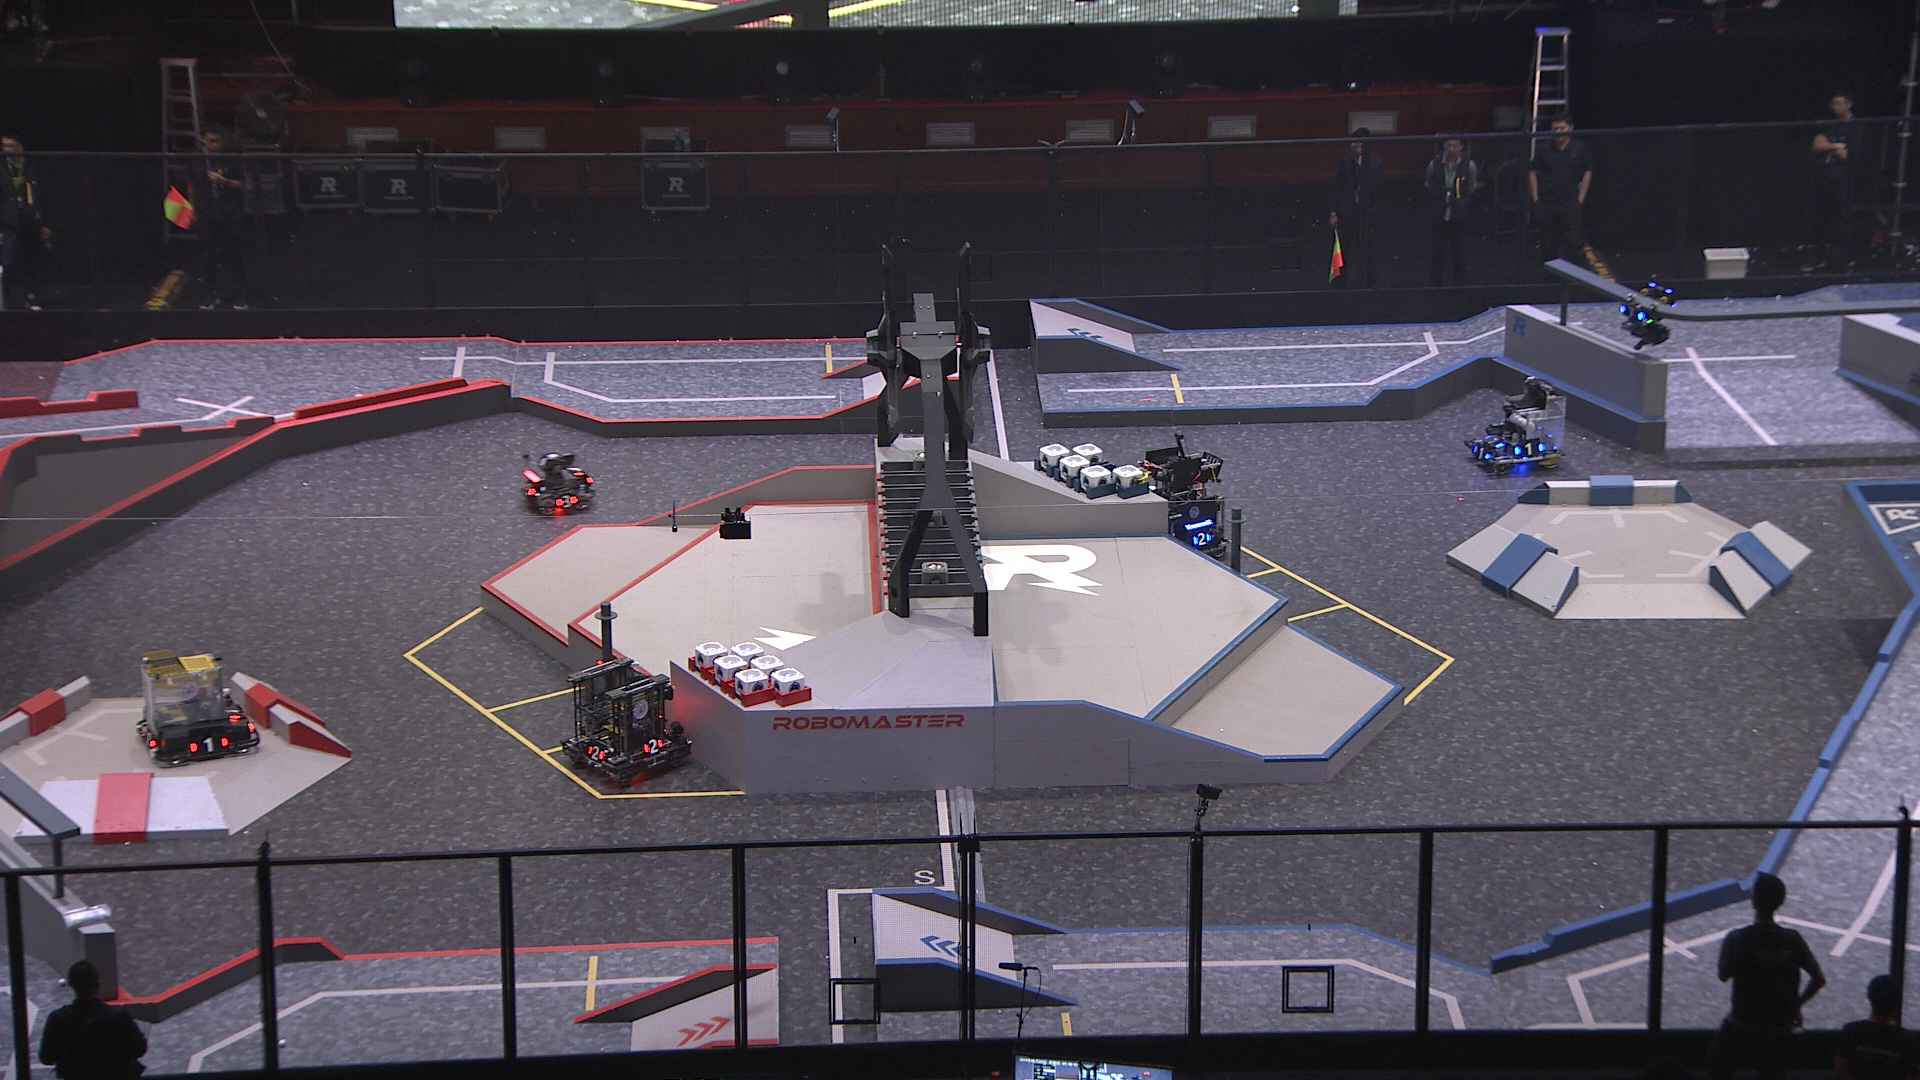armor: (189, 737, 225, 756), (1468, 443, 1493, 462), (1619, 302, 1644, 320), (140, 727, 157, 752), (1515, 442, 1542, 458), (223, 702, 243, 723), (642, 737, 665, 756), (555, 493, 580, 509), (585, 742, 603, 764), (1482, 433, 1505, 448), (566, 460, 585, 477), (1192, 531, 1212, 546), (526, 484, 539, 505)
car: (555, 647, 692, 785), (133, 641, 262, 770), (1134, 447, 1232, 568), (1461, 376, 1565, 479), (526, 454, 595, 516)
watcher: (1618, 276, 1679, 349)
